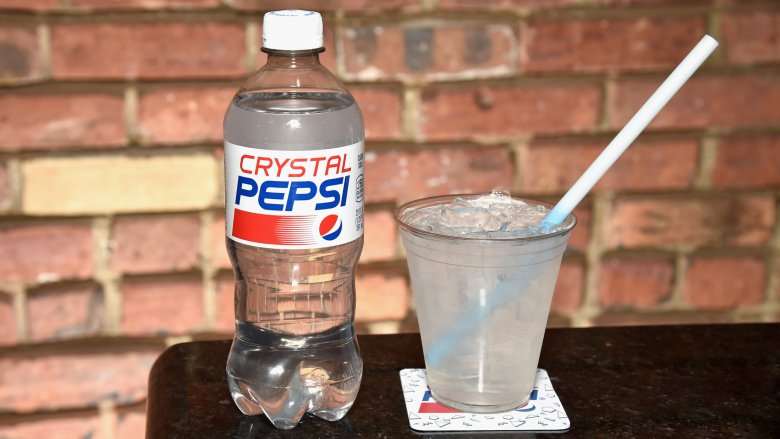pepsi: (318, 212, 342, 241)
